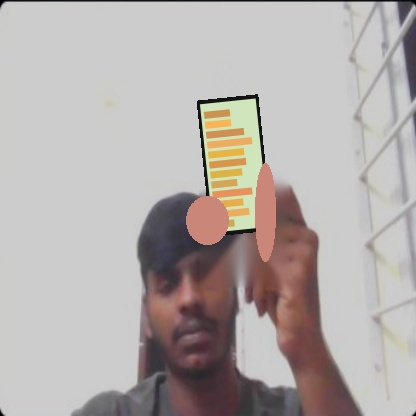cell_phone: (197, 94, 272, 236)
